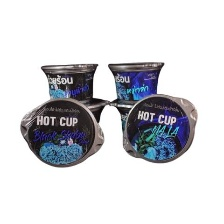paper_cup: (12, 94, 109, 171), (119, 90, 200, 166), (38, 59, 101, 104), (107, 57, 166, 103)
